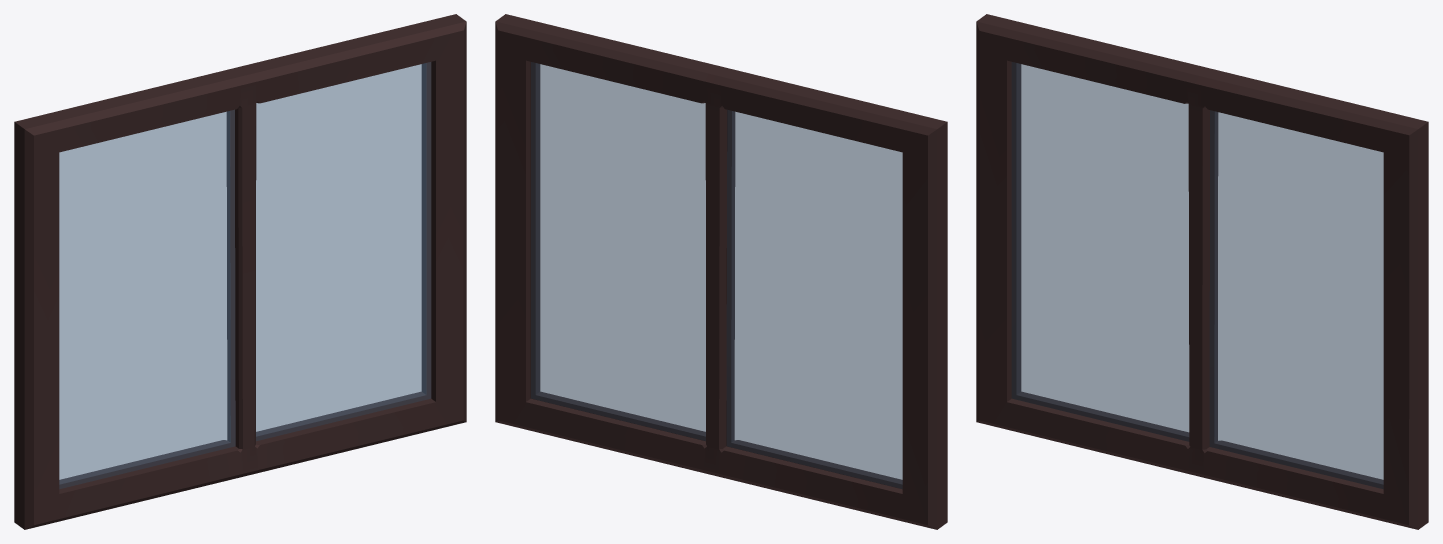
Rendered from ventananew.fbx.
3 views of the same model, side by side, from view 1: azimuth 30°, elevation 25°; view 2: azimuth 150°, elevation 25°; view 3: azimuth 330°, elevation 25° (orthographic).
Parts seen in each view (by area): view 1: marco3; view 2: marco3; view 3: marco3.
Boxes of the visible parts, x1,y1,x2,y2 form: marco3: (14,14,466,529); marco3: (495,14,947,529); marco3: (976,14,1428,529).
Size of the model in its own units: 150 by 130 by 9.72.
